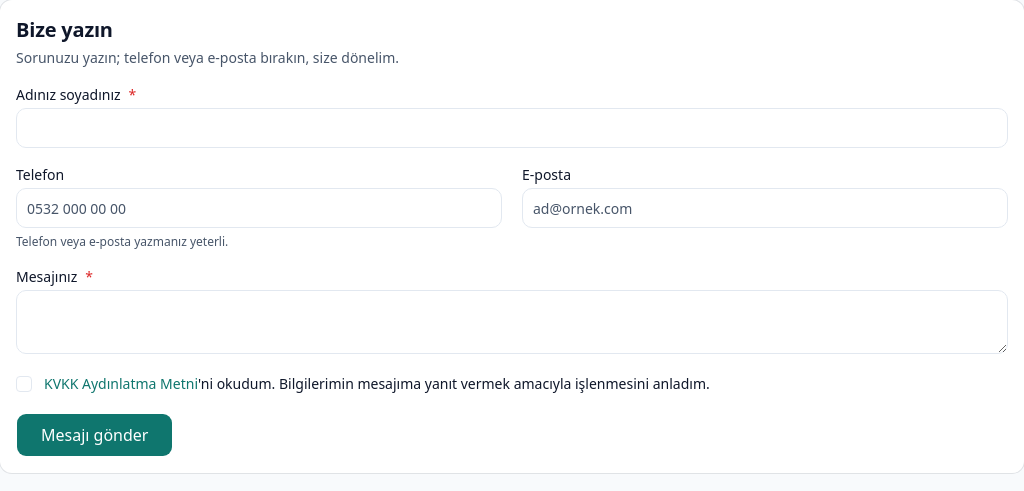
ContactForm › works with an e-mail instead of a phone number
The image size is (1024, 491).
Type "Ahmet Yılmaz" into the field labelled "Adınız soyadınız *".
click(512, 128); type("Ahmet Yılmaz")  # box [16,108,1008,148]
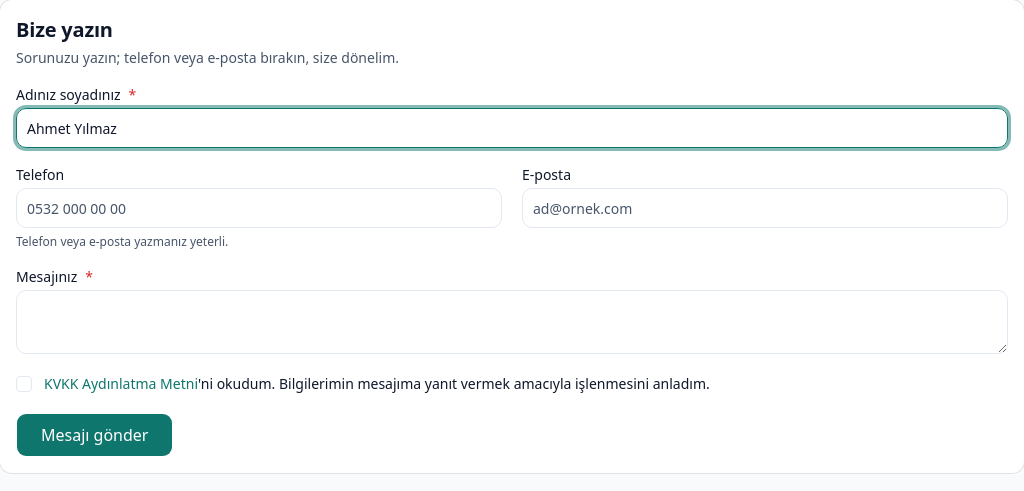
Type "Merhaba, bilgi almak istiyorum." into the text box labelled "Mesajınız *".
click(512, 322); type("Merhaba, bilgi almak istiyorum.")  # box [16,290,1008,354]
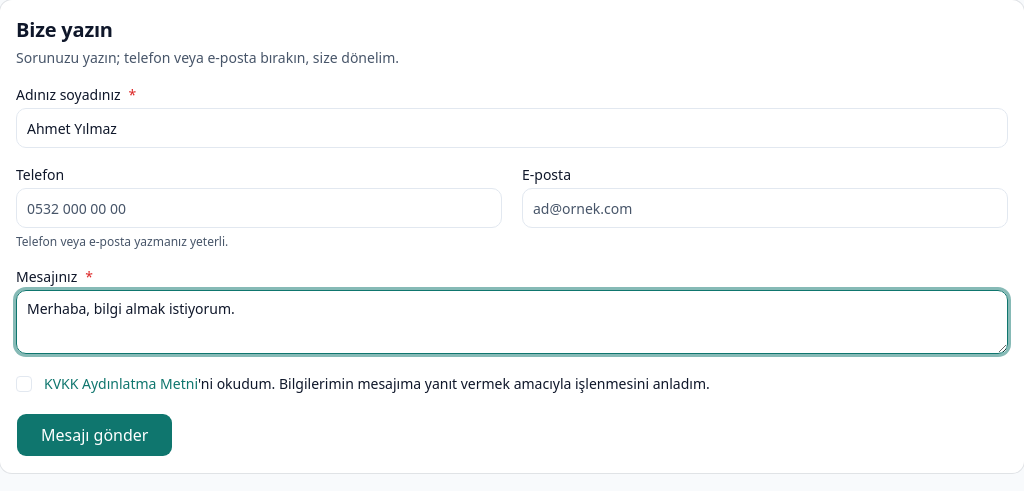
Click the checkbox named "KVKK Aydınlatma Metni".
click(24, 384)  # box [16,376,32,392]
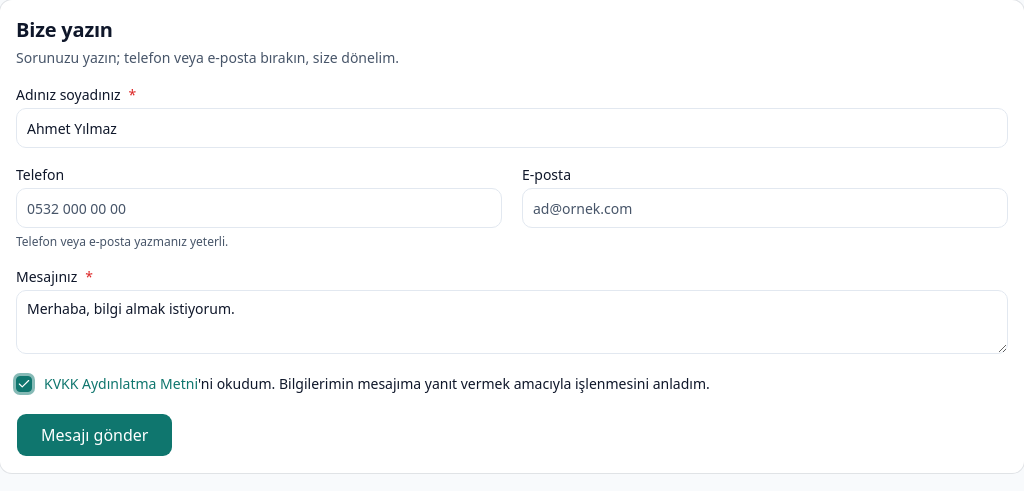
Type "ahmet@ornek.com" into the field labelled "E-posta".
click(765, 208); type("ahmet@ornek.com")  # box [522,188,1008,228]
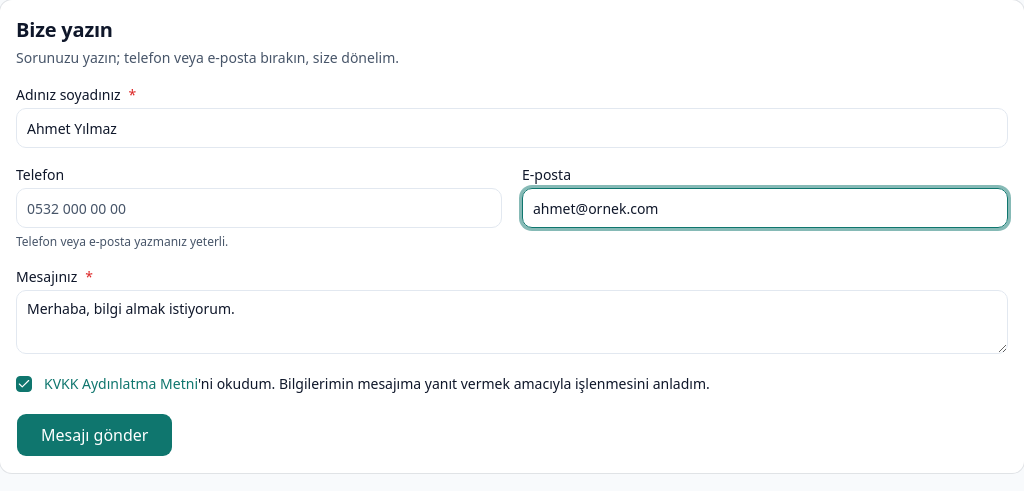
Click the button "Mesajı gönder".
click(95, 435)  # box [16,413,174,457]
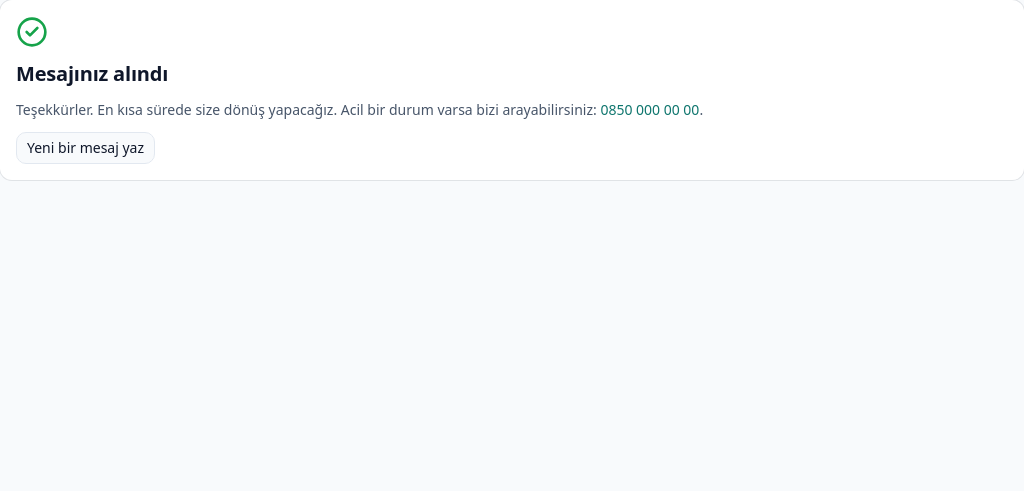
Expected: the heading "Mesajınız alındı" is shown, [16,60,168,88]
